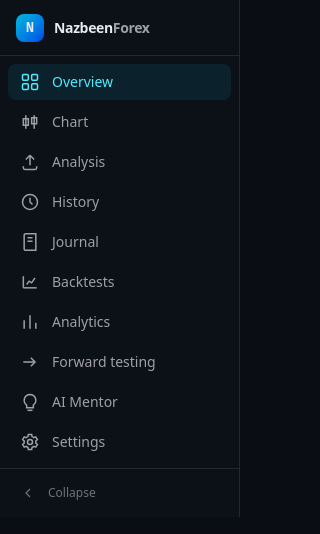
Test: Sidebar (mobile drawer + desktop collapse) › collapse toggles the icon-rail width and hides labels
What coordinates should you click on to do the following:
click the button with test id "sidebar-collapse"
I would click on:
 (120, 493)
Its box is [8, 477, 231, 509].
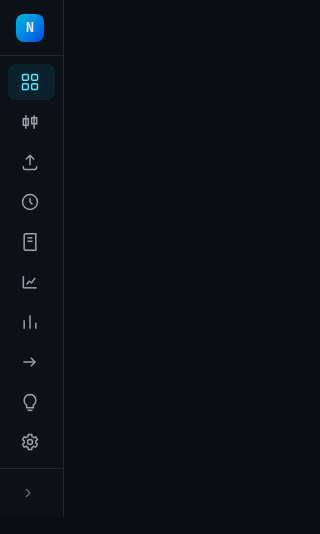
Now the text "Collapse" is gone
